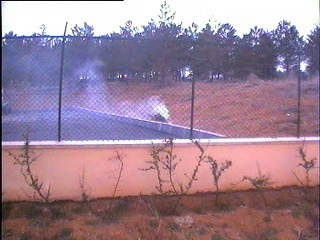smoke: (71, 56, 172, 127)
